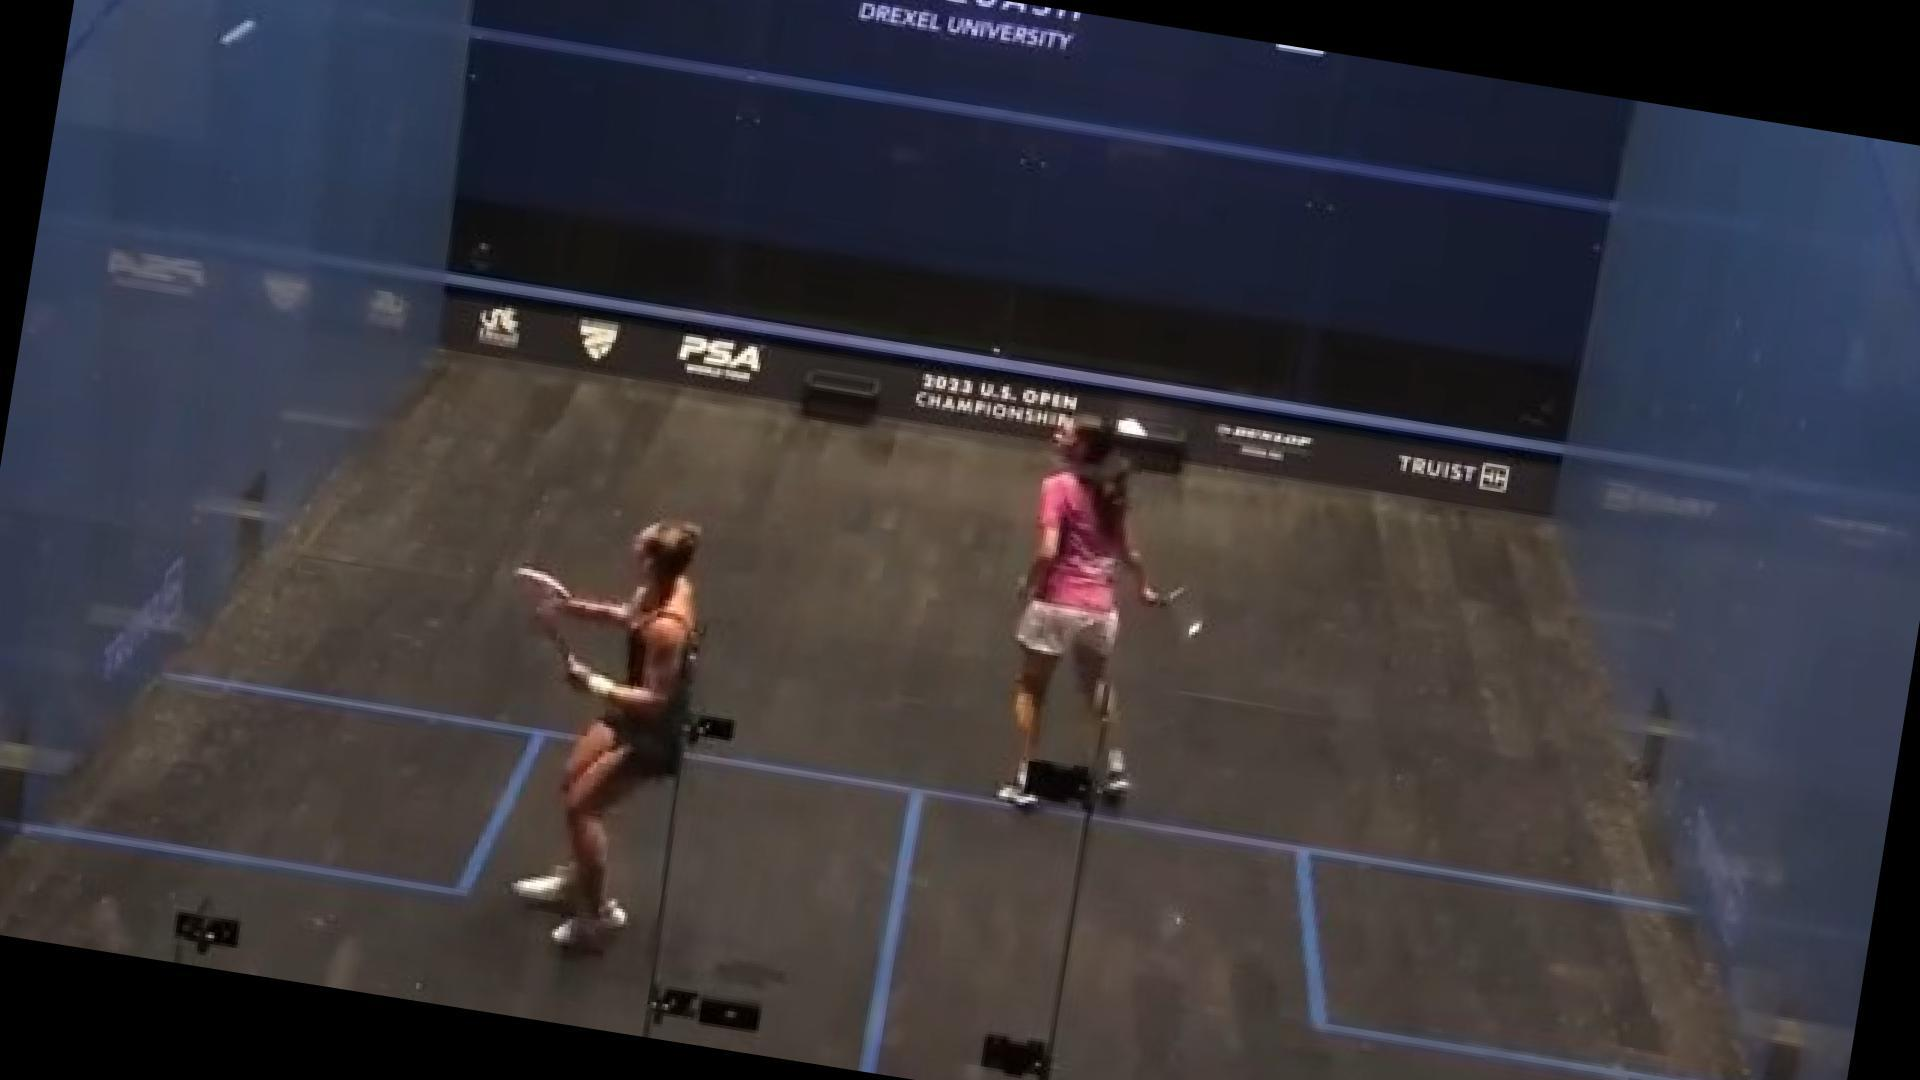Squash-Ball: (200, 0, 274, 84)
